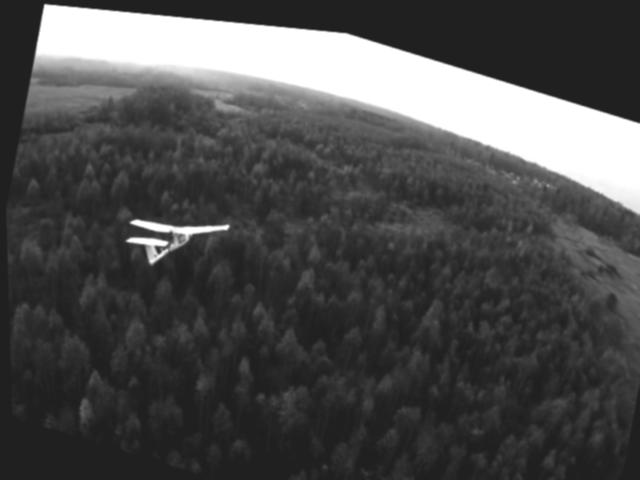hedef: (118, 179, 235, 291)
